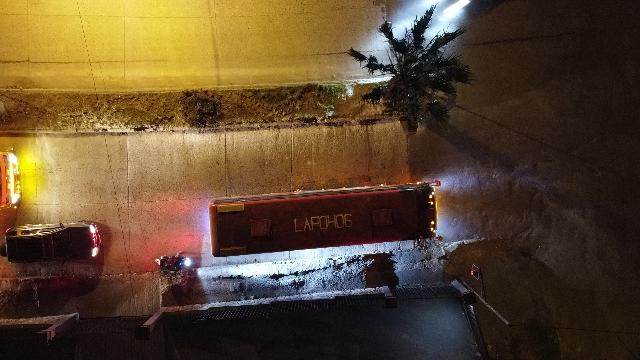Vehiculo: (0, 221, 102, 262)
